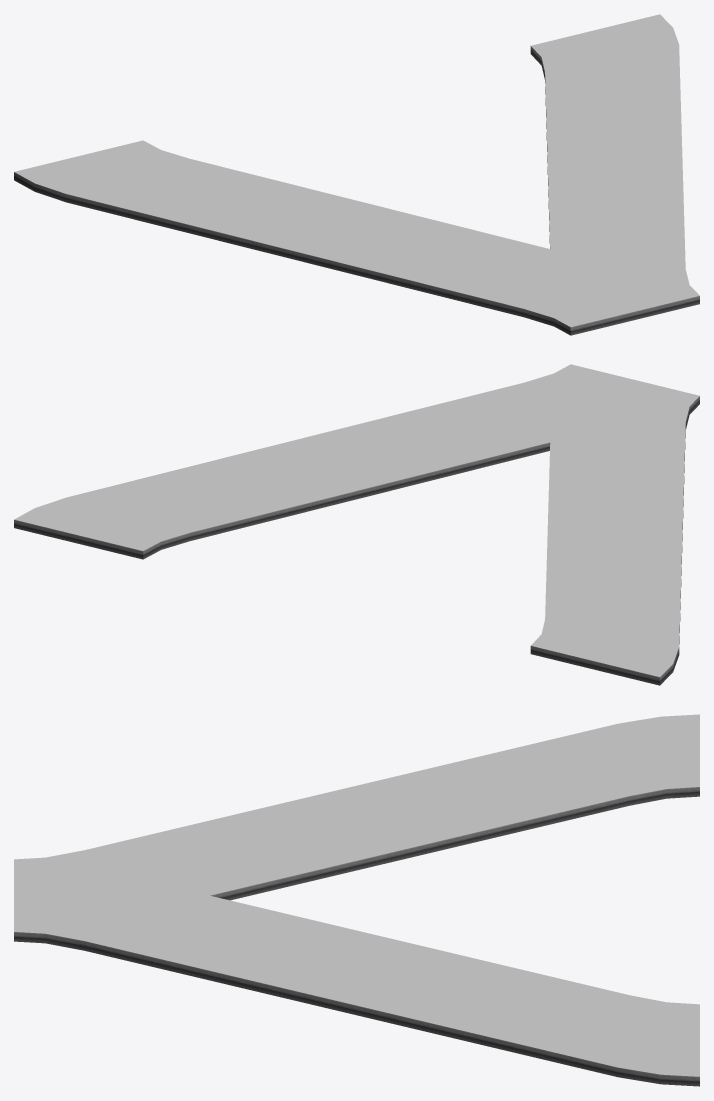
The model's file is Fork.fbx.
3 renders of one model, top to bottom at view 1: azimuth 30°, elevation 25°; view 2: azimuth 150°, elevation 25°; view 3: azimuth 270°, elevation 25°, orthographic. The views are drawn at different scales.
Visible parts, largest first — view 1: Empty_Mesh; view 2: Empty_Mesh; view 3: Empty_Mesh.
Part boxes in pixels (x1,y1,x2,y2): Empty_Mesh: (14, 14, 699, 335); Empty_Mesh: (14, 364, 699, 685); Empty_Mesh: (14, 714, 699, 1086).
Size of the model in its own units: 8000 by 100 by 6400.
